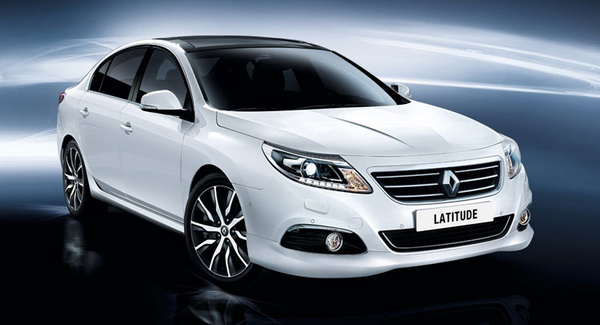sedan: (55, 34, 538, 290)
